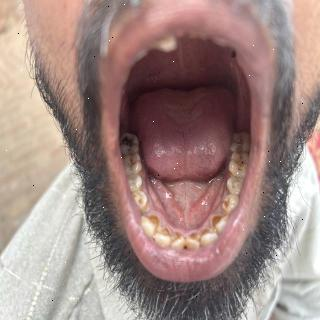calculus: (208, 213, 222, 231), (150, 210, 162, 230), (163, 222, 175, 238), (198, 227, 214, 239), (172, 226, 182, 241), (190, 231, 200, 243)
cavities: (120, 132, 134, 154), (233, 132, 244, 148), (128, 155, 135, 169)
maligned: (170, 228, 186, 252), (185, 229, 199, 249)
stains: (127, 152, 145, 179), (228, 151, 248, 175), (123, 136, 141, 159), (129, 172, 147, 194), (144, 208, 160, 230), (158, 227, 175, 245), (136, 191, 150, 211), (208, 211, 222, 227), (219, 197, 232, 213), (173, 230, 185, 246), (201, 226, 210, 238), (222, 185, 232, 195), (230, 142, 237, 155), (190, 234, 196, 244)
